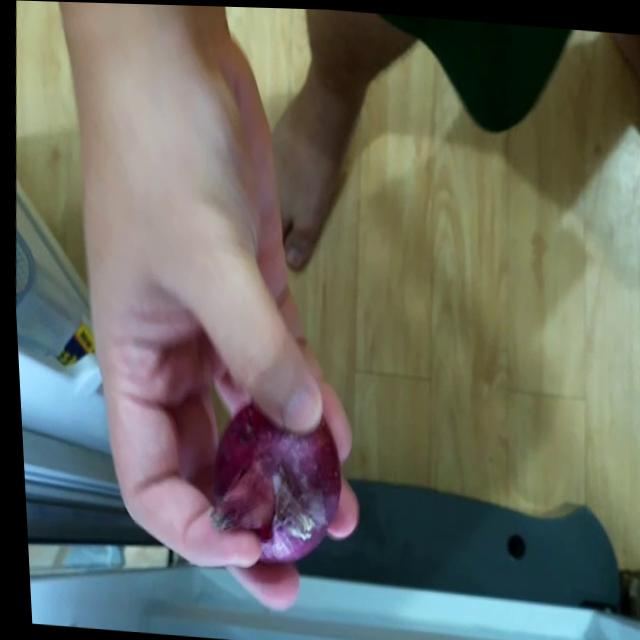onion: (202, 400, 349, 567)
